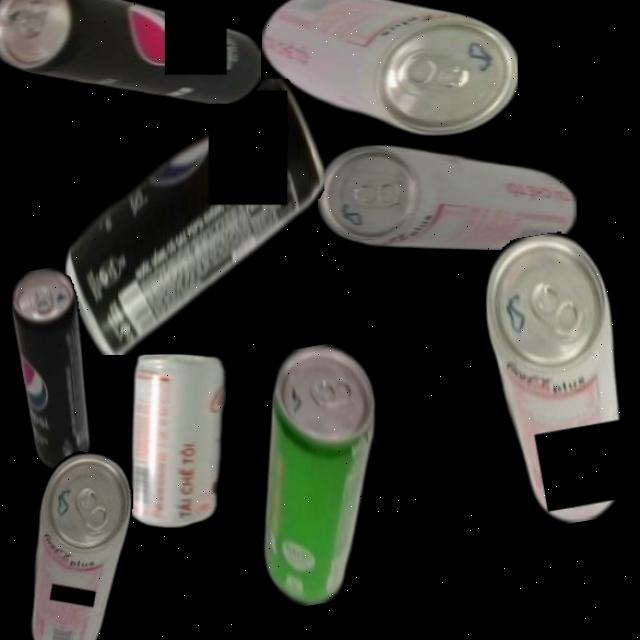debris: (64, 77, 324, 355), (472, 225, 640, 532), (230, 338, 408, 612), (261, 0, 518, 137), (318, 144, 576, 250), (0, 0, 261, 104), (14, 446, 139, 640), (5, 264, 106, 473), (129, 352, 226, 528)
